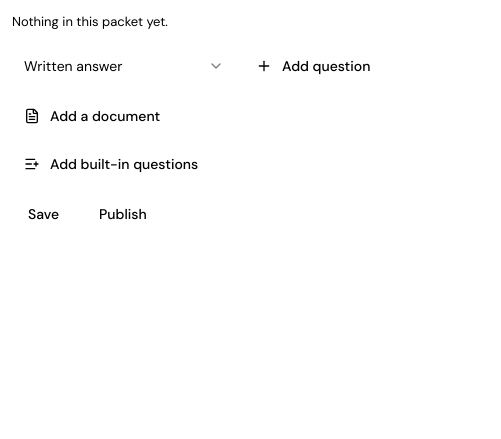
Test: IntakeItemEditor › built-ins › offers a built-in document under Add a document and built-in questions apart
Click the button "Add built-in questions": (111, 164) [12,148,210,180]
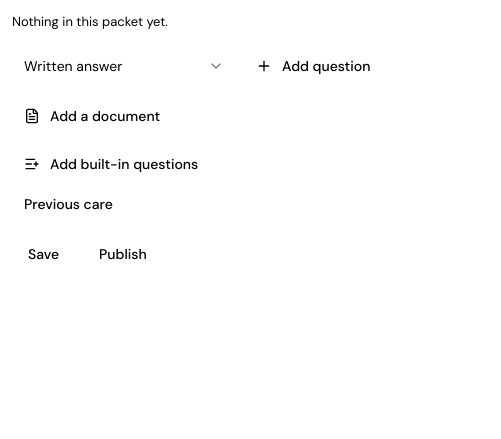
Expected: the button "Consent for the use of AI tools" is not shown
Now the button "Previous care" is shown, box [12,188,125,220]
Click the button "Add a document": (92, 116) [12,100,172,132]
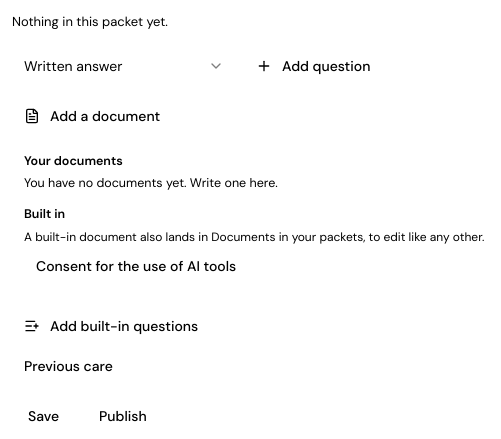
Now the button "Consent for the use of AI tools" is shown, box [24,250,248,282]
